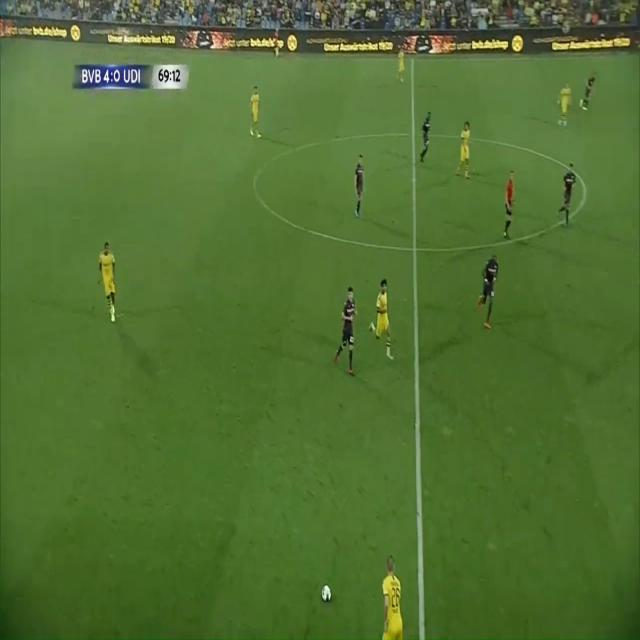ball: (315, 583, 336, 606)
player: (375, 551, 405, 640), (476, 242, 506, 331), (98, 238, 125, 333), (369, 280, 400, 355), (338, 285, 362, 373), (556, 157, 577, 235), (414, 105, 433, 182), (351, 147, 370, 210), (248, 82, 266, 143), (554, 75, 574, 129), (458, 119, 474, 182), (580, 69, 598, 124), (396, 43, 408, 87)
referee: (502, 169, 514, 240)
